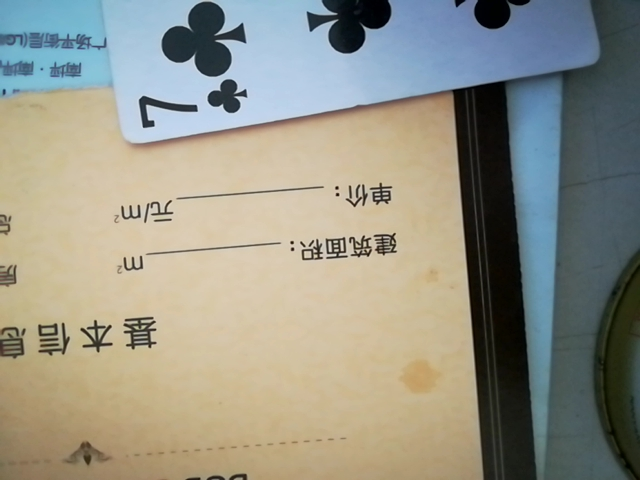mh 7: (101, 0, 597, 144)
